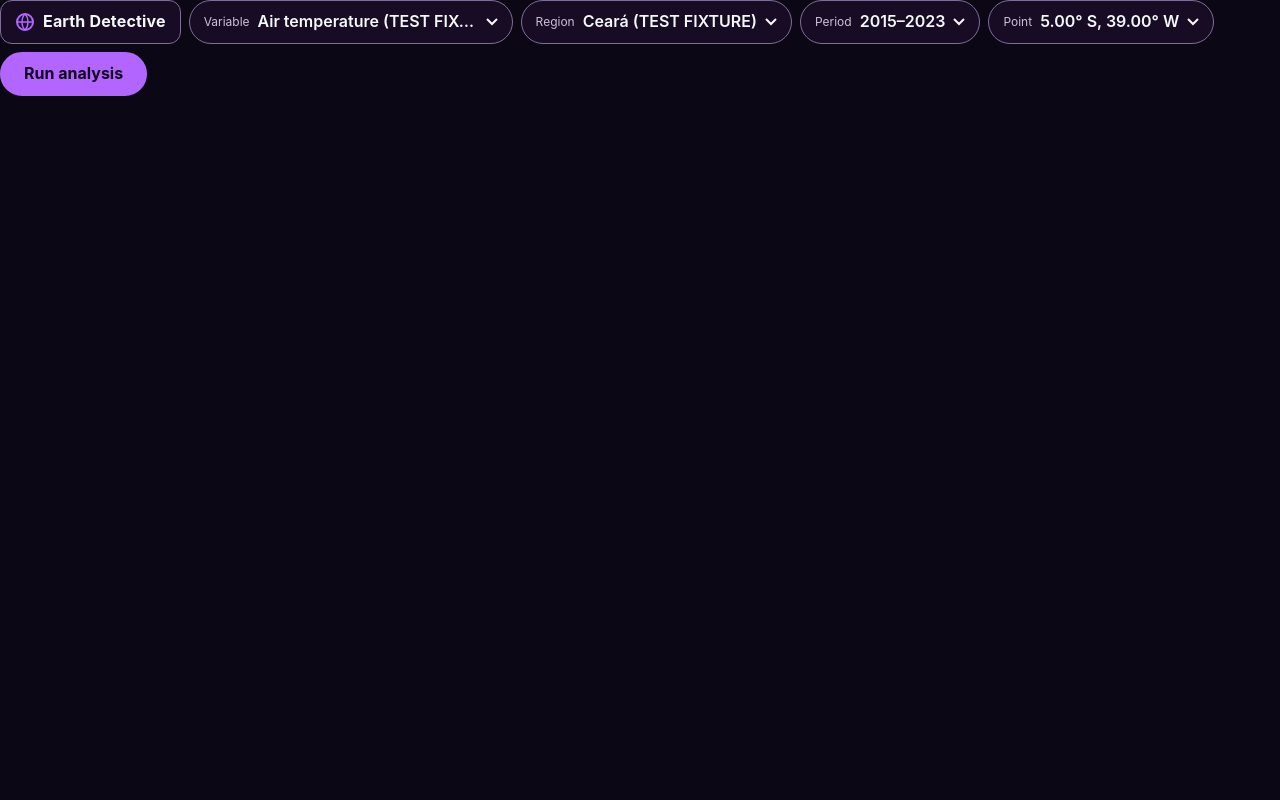
ControlsBar chips › closes with Escape and gives focus back to the chip
Click the button with aria-label "Region:": (656, 22) [521,0,792,44]
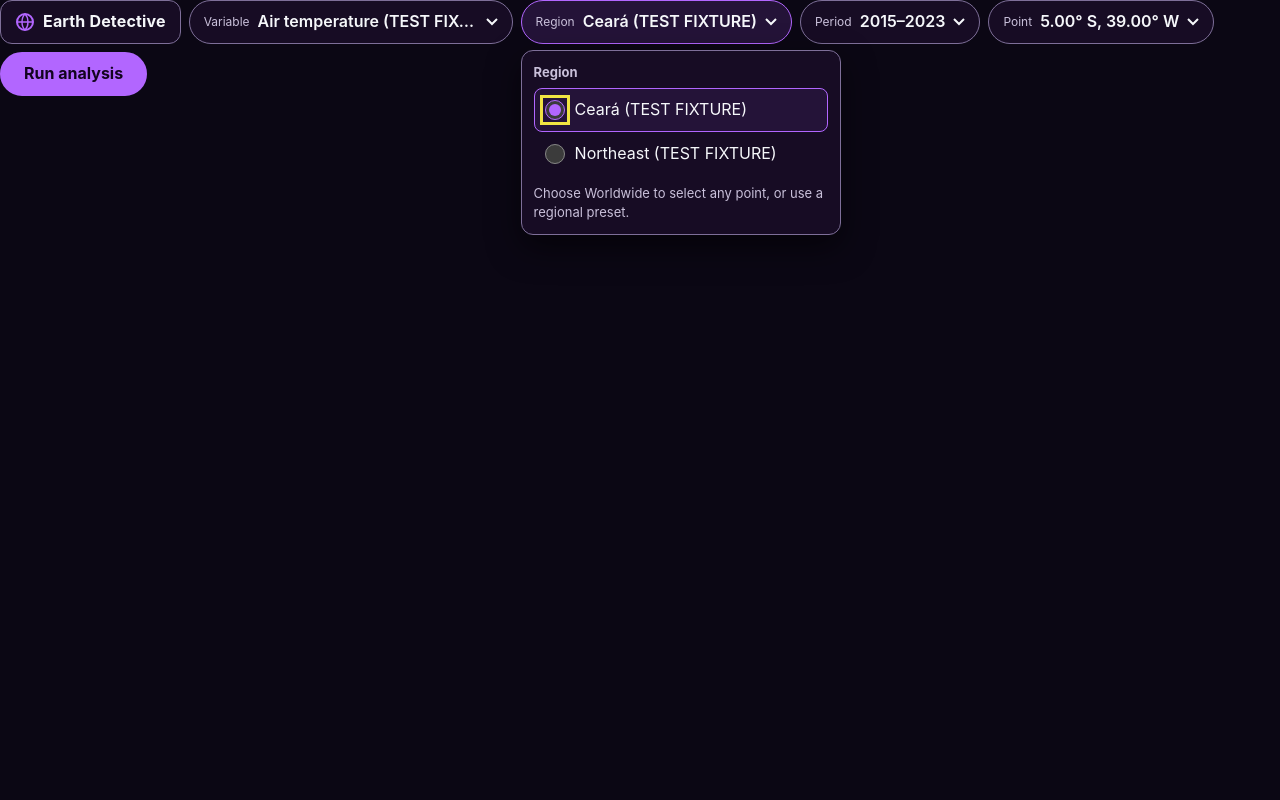
Check: the dialog "Region" is shown, box [521,50,841,234]
Press Escape
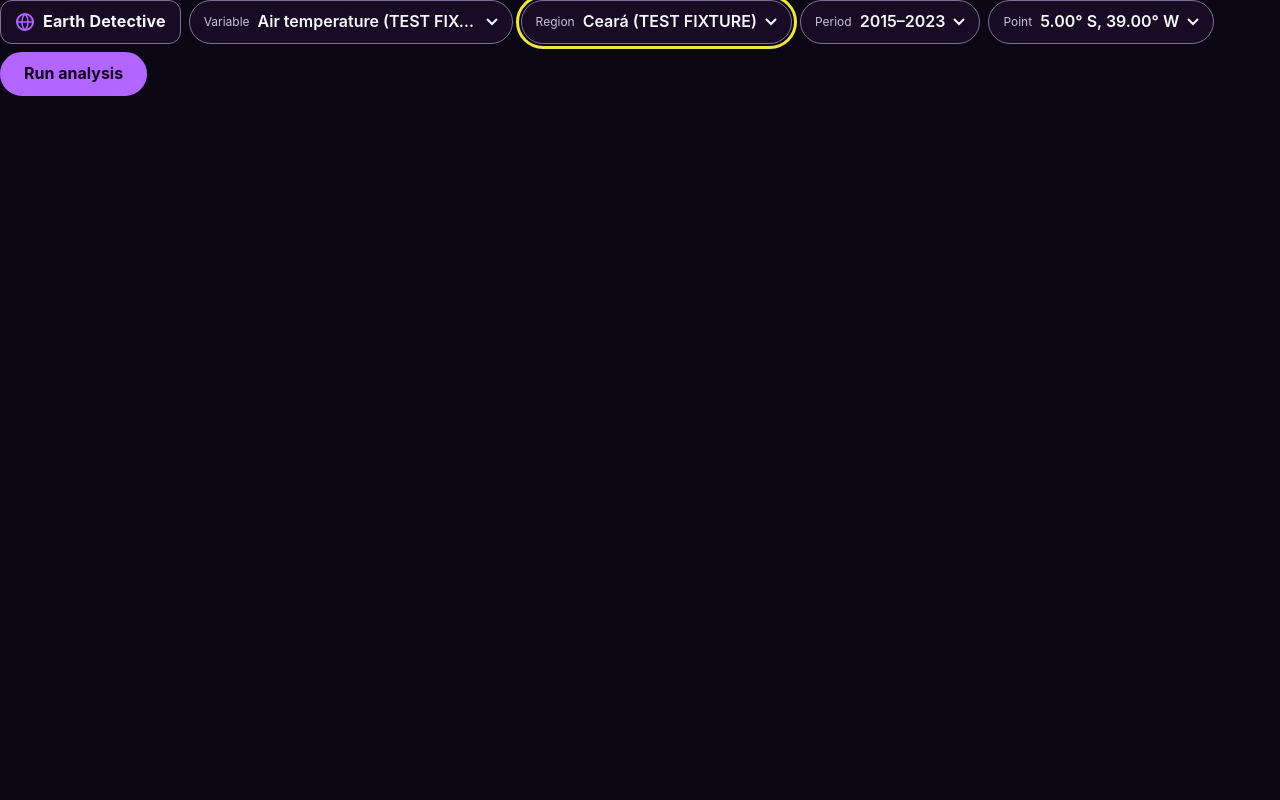
Check: the dialog is gone
